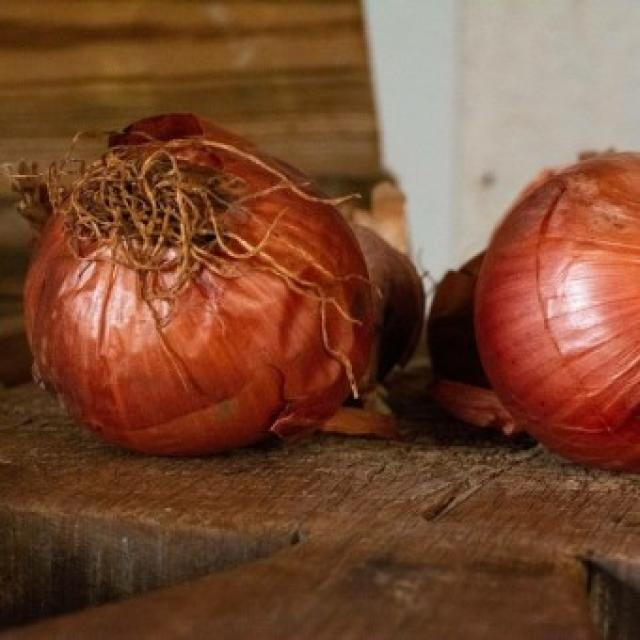onion: (6, 71, 428, 494), (469, 97, 640, 482)
